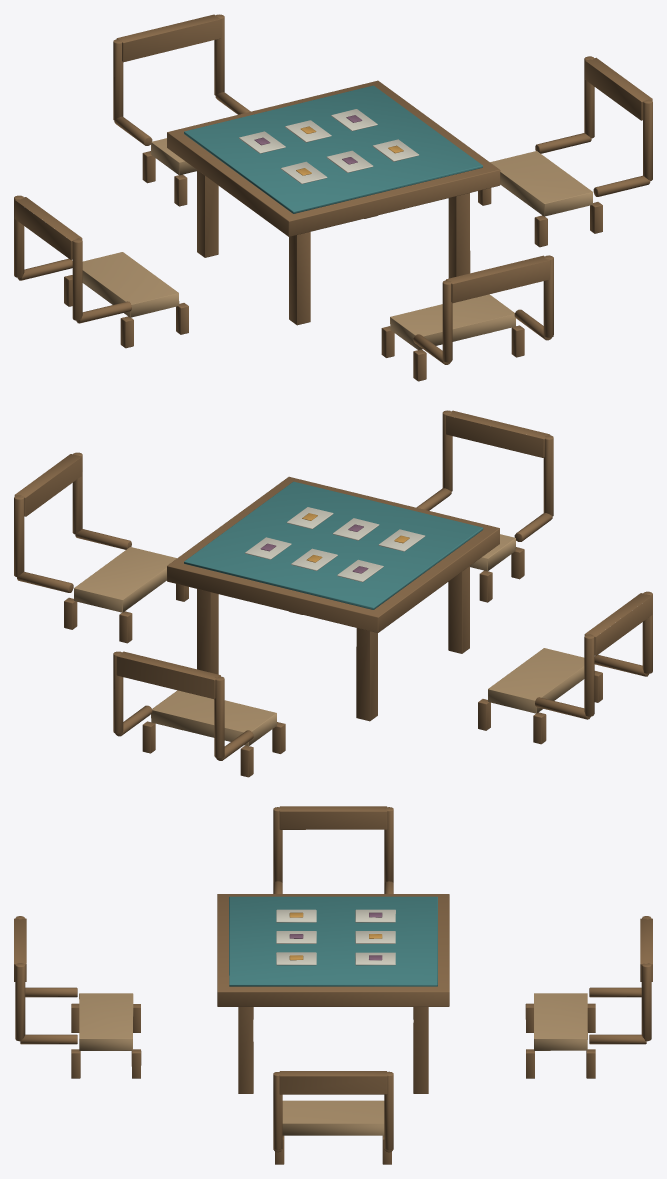
The model's file is table_cards.glb.
3 views of the same model, one above another, from view 1: azimuth 30°, elevation 25°; view 2: azimuth 150°, elevation 25°; view 3: azimuth 270°, elevation 25° (orthographic). The views are drawn at different scales.
Size of the model in its own units: 3.8 by 0.764 by 3.8.
